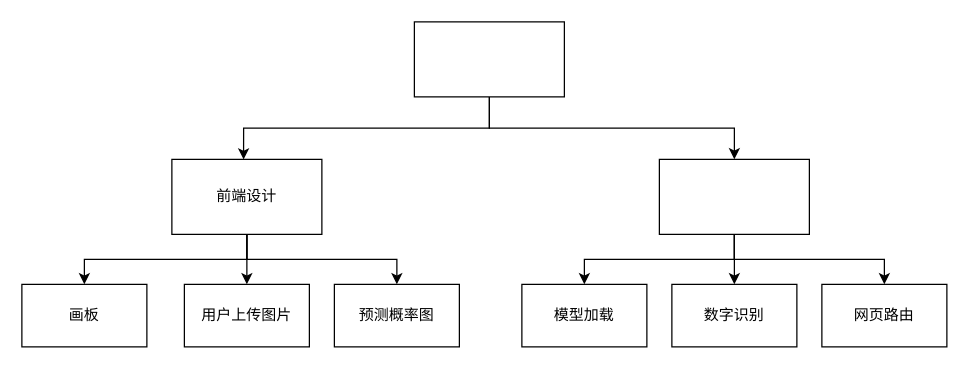
This 969x369 diagram has some shape labels left out. The box of each missing label's shape, as (x1, y1, x2, y2) in pixels:
前后端设计: (413, 21, 564, 97)
后端设计: (658, 158, 809, 234)
